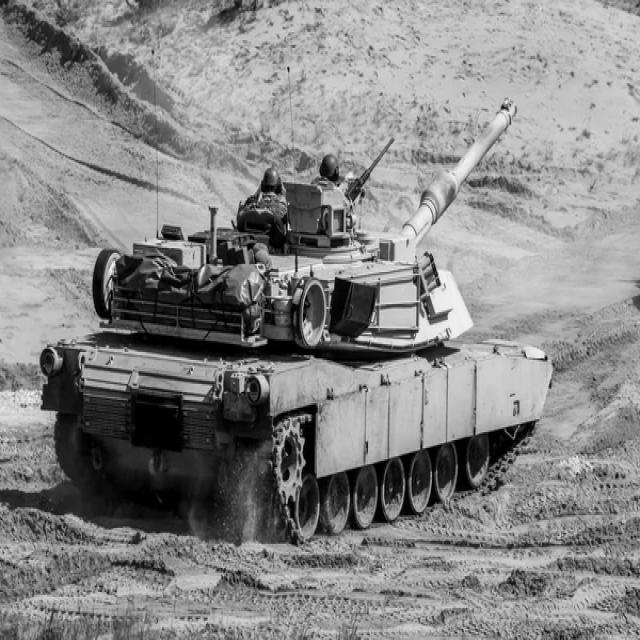Tank: (38, 89, 563, 546)
